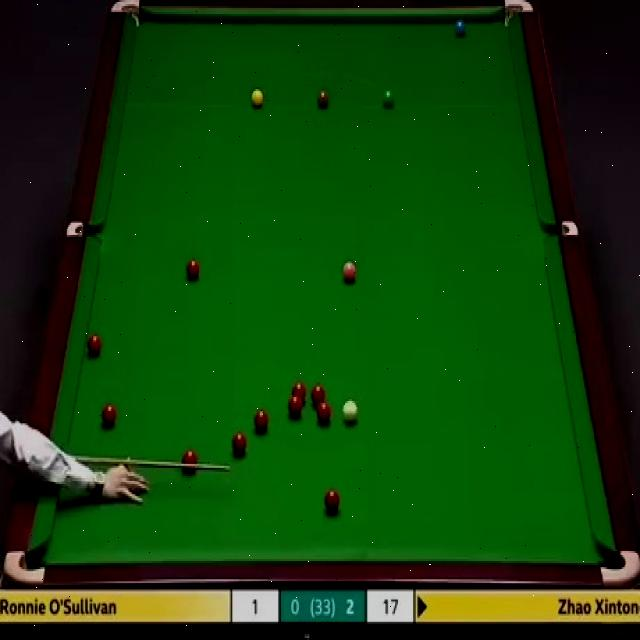blue-ball: (455, 18, 467, 41)
brown-ball: (316, 89, 329, 108)
green-ball: (381, 90, 394, 108)
pink-ball: (341, 260, 359, 284)
red-ball: (182, 447, 200, 476), (184, 258, 202, 286), (230, 432, 246, 459), (102, 402, 118, 427), (87, 334, 102, 360), (324, 490, 340, 512), (254, 407, 268, 432), (289, 397, 304, 418), (291, 381, 306, 402), (312, 384, 326, 406), (316, 401, 329, 422)
white-ball: (341, 400, 358, 425)
yellow-ball: (250, 89, 264, 108)
